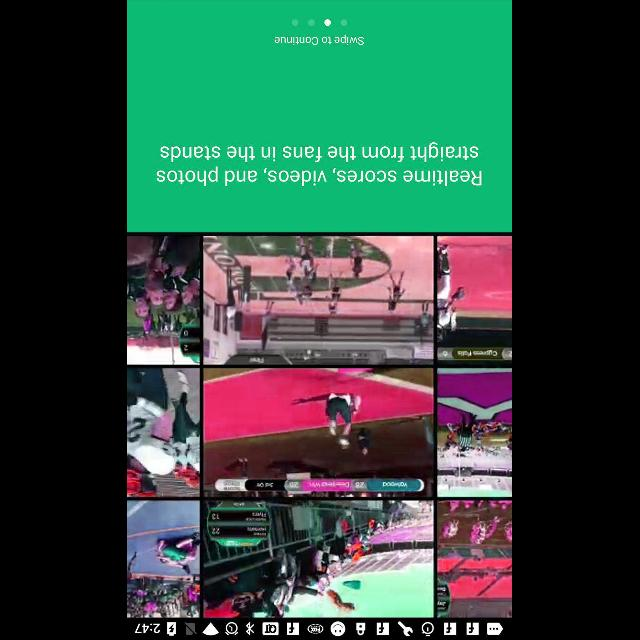image: (128, 233, 512, 617)
pageindicator: (292, 19, 348, 27)
text: (157, 142, 483, 186), (275, 34, 365, 46)
uppertaskbar: (128, 617, 512, 639)
